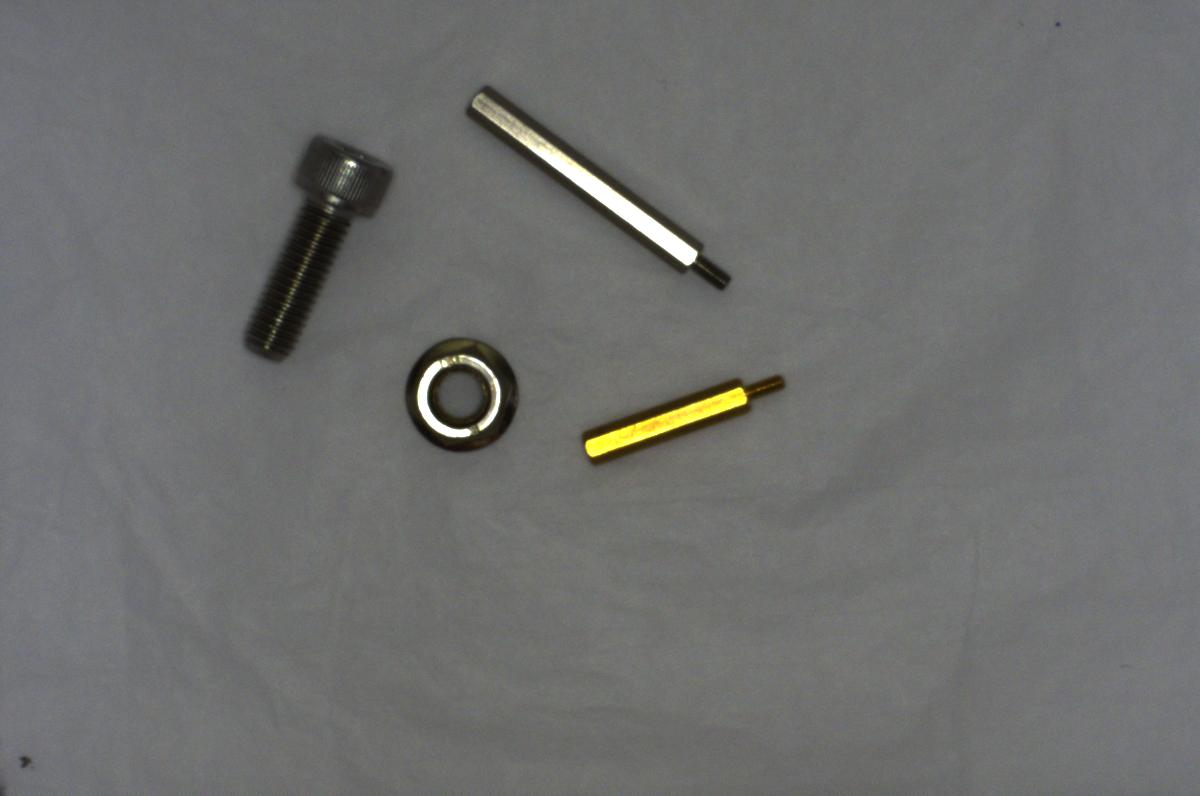Flange nut: (398, 326, 522, 456)
Hexagon pillar: (564, 361, 794, 469)
Hexagon screw: (233, 120, 399, 368)
Hexagonal steel column: (458, 78, 739, 296)
